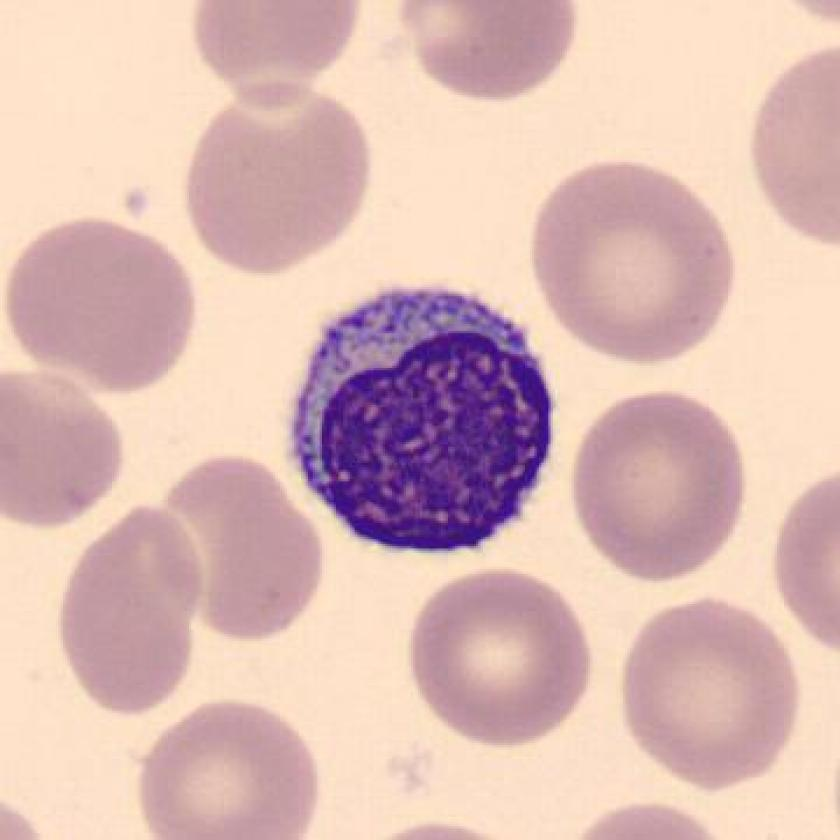lymphocyte: (274, 272, 577, 575)
